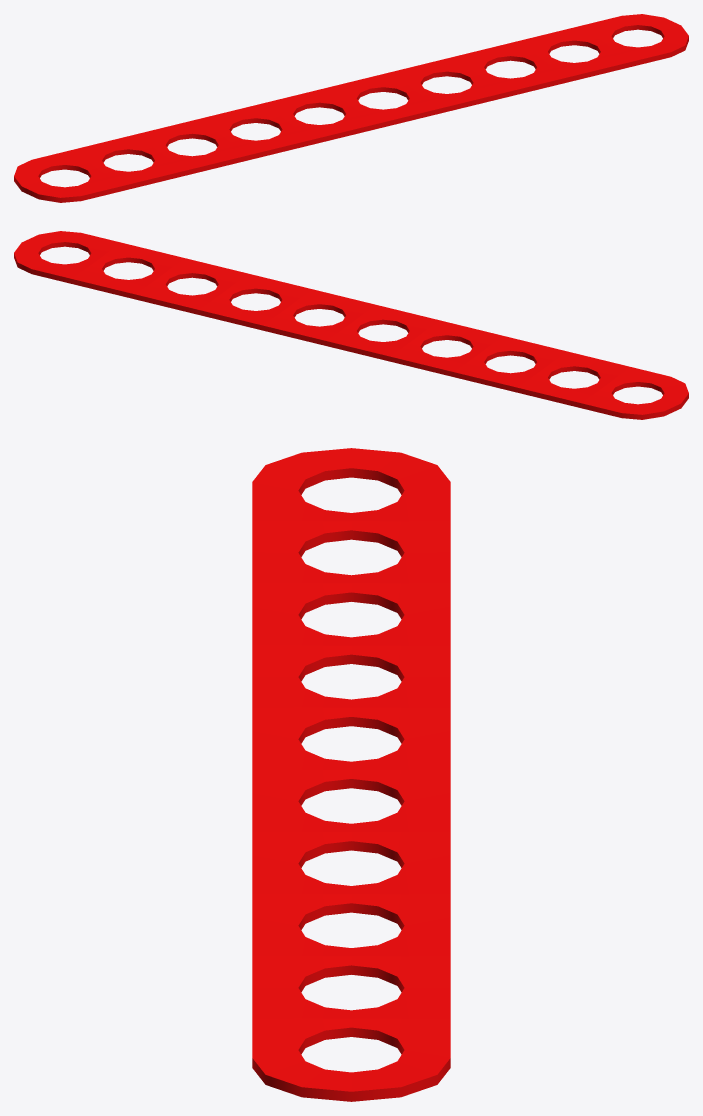
The model's file is TenLongRed.fbx.
3 renders of one model, top to bottom at view 1: azimuth 30°, elevation 25°; view 2: azimuth 150°, elevation 25°; view 3: azimuth 270°, elevation 25°, orthographic. The views are drawn at different scales.
Visible parts, largest first — view 1: Blue10; view 2: Blue10; view 3: Blue10.
Part boxes in pixels (bbox=[...]): Blue10: bbox=[14, 14, 688, 202]; Blue10: bbox=[14, 231, 688, 419]; Blue10: bbox=[252, 448, 450, 1101].
Size of the model in its own units: 26.47 by 0.1942 by 3.45.
